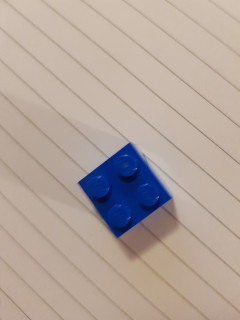2x2 blue: (75, 139, 174, 241)
